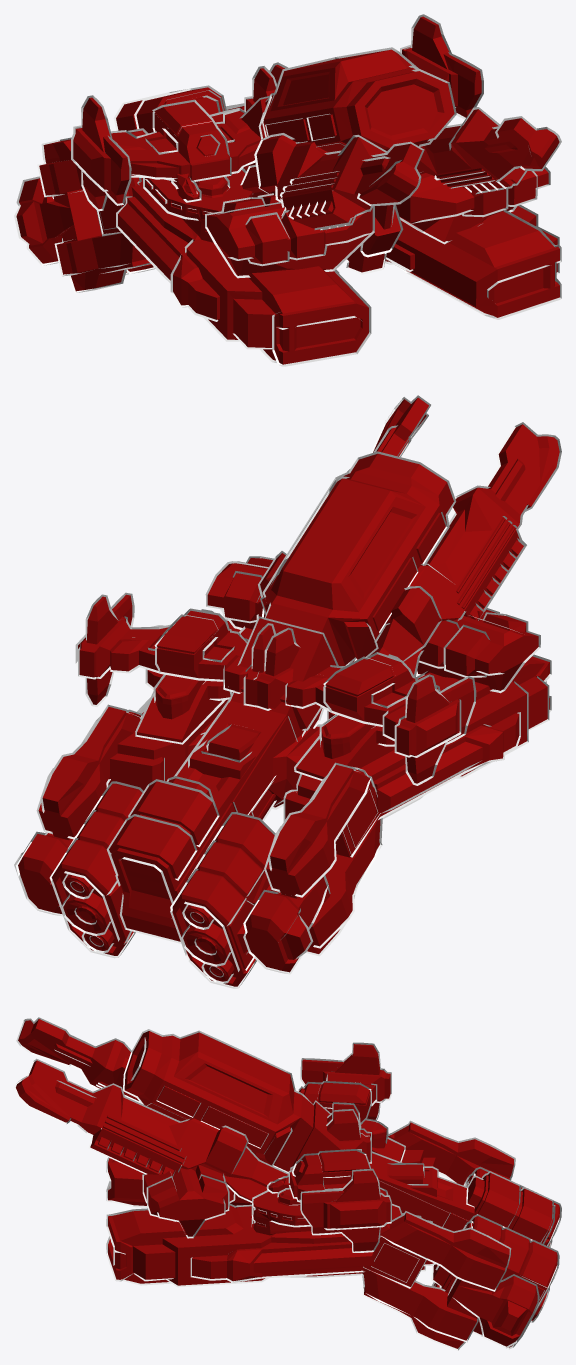
The model's file is ship10_red.glb.
3 views of the same model, one above another, from view 1: azimuth 30°, elevation 25°; view 2: azimuth 150°, elevation 25°; view 3: azimuth 270°, elevation 25° (orthographic). The views are drawn at different scales.
Parts seen in each view (by area): view 1: ME_ship_IndexedFaceSet.001, ME_ship_IndexedFaceSet; view 2: ME_ship_IndexedFaceSet, ME_ship_IndexedFaceSet.001; view 3: ME_ship_IndexedFaceSet, ME_ship_IndexedFaceSet.001.
Part boxes in pixels (bbox=[...]): ME_ship_IndexedFaceSet.001: bbox=[71, 14, 561, 366]; ME_ship_IndexedFaceSet: bbox=[14, 47, 561, 293]; ME_ship_IndexedFaceSet: bbox=[14, 395, 561, 988]; ME_ship_IndexedFaceSet.001: bbox=[75, 556, 551, 838]; ME_ship_IndexedFaceSet: bbox=[14, 1017, 561, 1350]; ME_ship_IndexedFaceSet.001: bbox=[106, 1042, 438, 1287].
Bounding box in the file's own units: 352 × 323 × 573.
